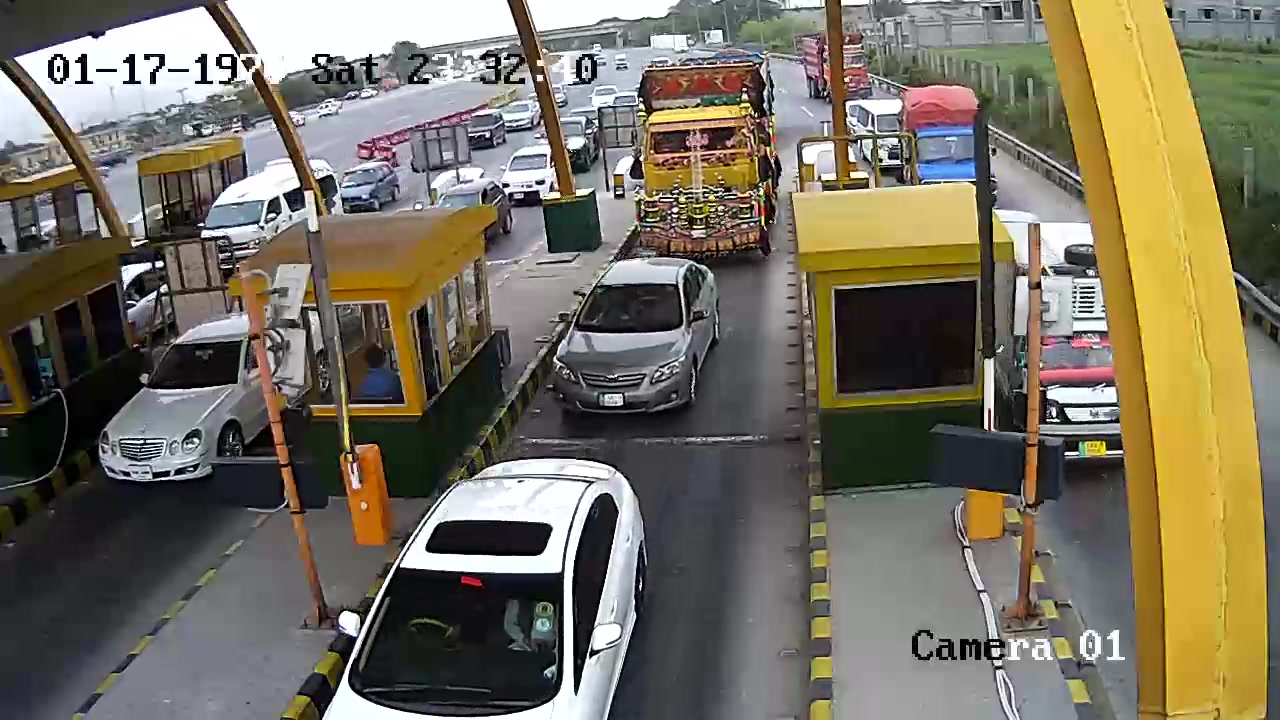F1: (541, 252, 737, 432)
